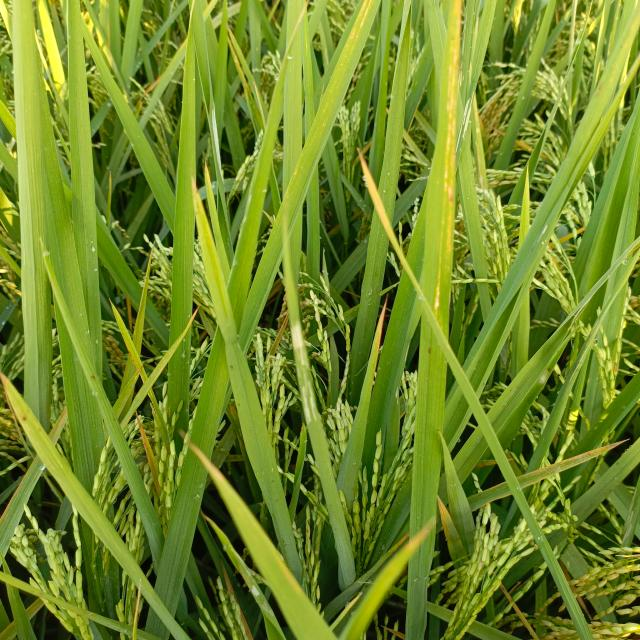Bacterial leaf blight: (531, 221, 553, 248)
insects: (426, 343, 436, 358), (88, 373, 98, 383), (21, 414, 28, 422), (230, 364, 236, 371), (38, 428, 43, 433)
